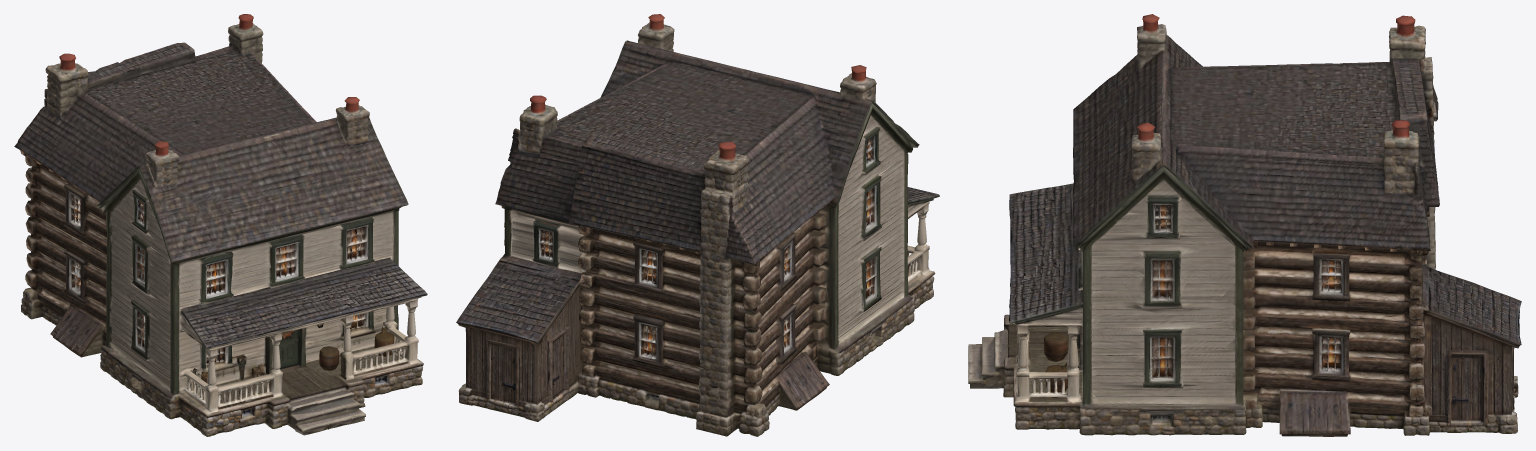
The model's file is tripo_convert_29314f7c-a5a1-4e1e-bb31-4fdb32c8c27d.fbx.
3 views of the same model, side by side, from view 1: azimuth 30°, elevation 25°; view 2: azimuth 150°, elevation 25°; view 3: azimuth 270°, elevation 25° (orthographic). The views are drawn at different scales.
Visible parts, largest first — view 1: tripo_node_29314f7c; view 2: tripo_node_29314f7c; view 3: tripo_node_29314f7c.
Part boxes in pixels (x1,y1,x2,y2): tripo_node_29314f7c: (14, 14, 427, 436); tripo_node_29314f7c: (456, 14, 939, 436); tripo_node_29314f7c: (968, 14, 1521, 436).
Bounding box in the file's own units: 0.601 × 0.5966 × 0.9802.
1 material, 1 textured.
